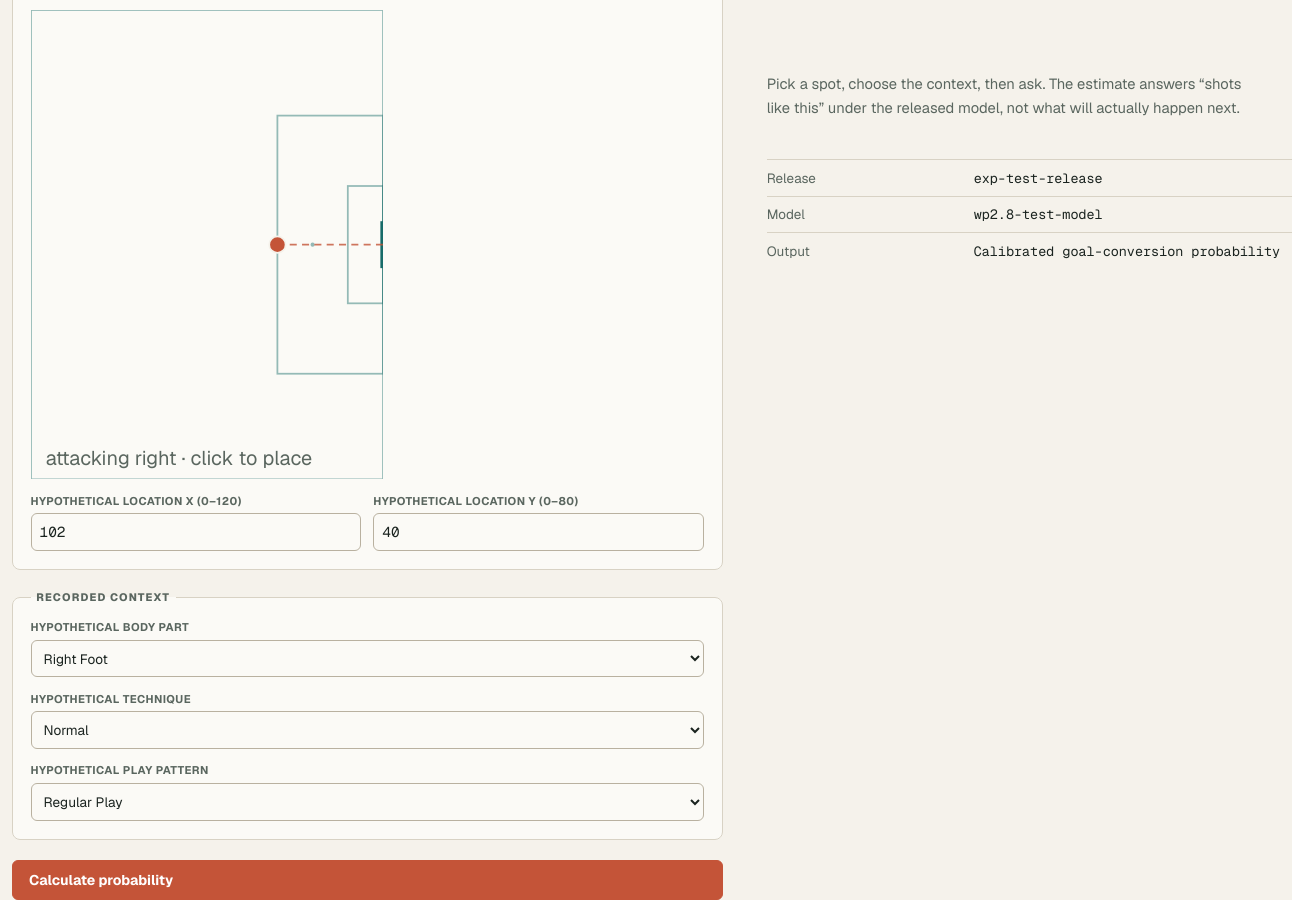
PredictionPlayground › warns instead of showing a number when the prediction echoes a different artifact identity
(page scrolled)
What coordinates should you click on to do the following:
click the button "Calculate probability"
I would click on:
 (101, 880)
Its box is [12,860,723,899].
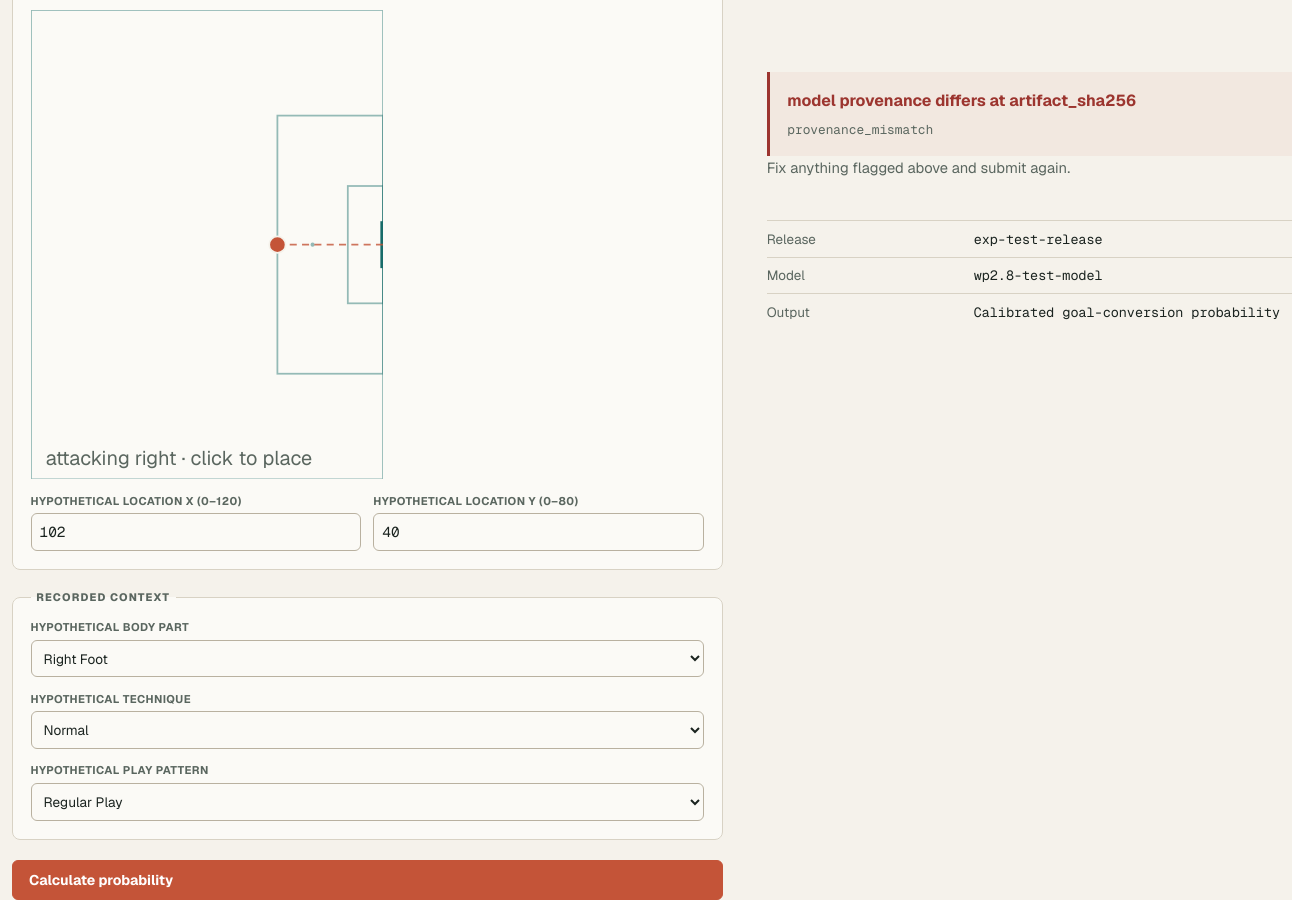
Expected: the text "model provenance differs at artifact_sha256" is shown, [787,88,1136,114]
